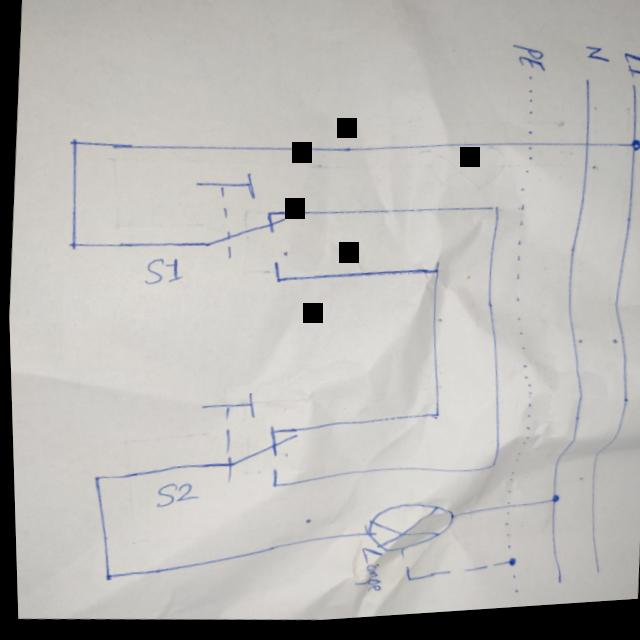crossover: (521, 143, 537, 156), (497, 505, 511, 519), (581, 146, 592, 155)
junction: (427, 265, 443, 283), (64, 236, 83, 251), (625, 142, 640, 160), (86, 471, 105, 485), (544, 497, 561, 512), (97, 569, 115, 583), (66, 134, 83, 148), (500, 560, 517, 574), (270, 273, 286, 287), (264, 425, 278, 440), (267, 481, 282, 493), (398, 577, 414, 588), (482, 465, 497, 476), (261, 210, 274, 222), (427, 414, 440, 425), (489, 208, 501, 218)
switch: (186, 166, 298, 272), (192, 386, 301, 490)
terminal: (506, 590, 522, 602), (550, 580, 563, 593), (589, 573, 602, 583), (628, 88, 640, 98), (582, 82, 593, 92), (526, 80, 534, 87)
text: (348, 548, 384, 597), (150, 478, 199, 512), (139, 254, 185, 289), (509, 45, 550, 82), (579, 47, 611, 74), (617, 53, 640, 89)
